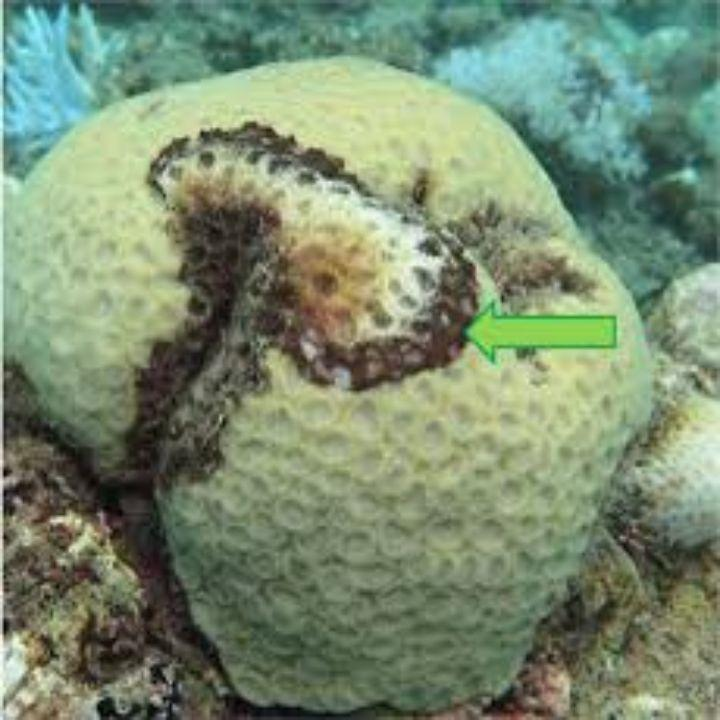Band disease: (103, 107, 484, 549)
